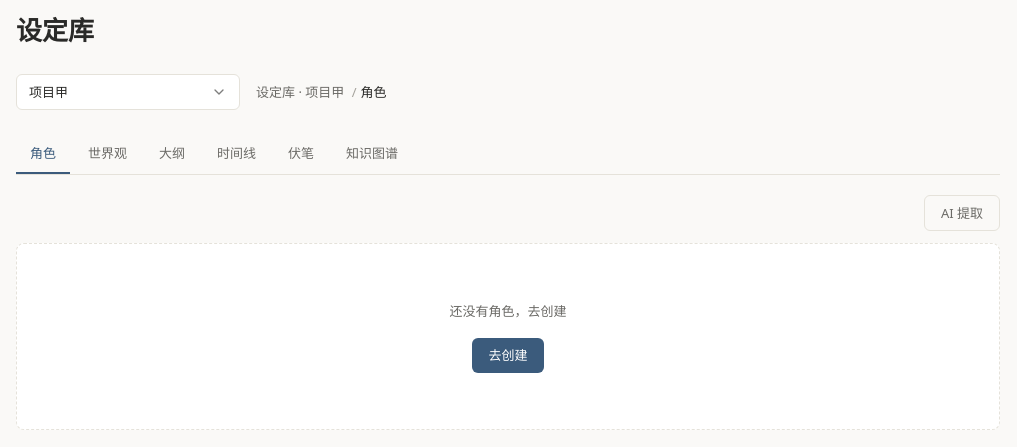
Scenario: 设定库页 — 世界观默认视图重设计（#568） › 信息层级：树行渲染描述预览（content 单行）与子条目数徽标
What coordinates should you click on to do the following:
click the tab "世界观"
I would click on:
 (108, 154)
Its box is [74,134,141,174].
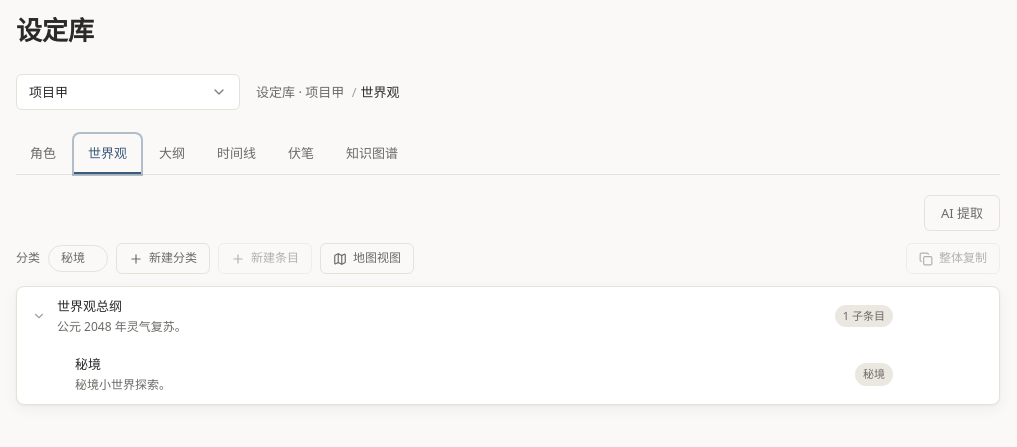
Now the element with test id "library-list" is shown, box [16,286,1000,405]
Now the text with test id "world-node-desc-w1" shows "公元 2048 年灵气复苏", box [57,318,187,335]
Now the text "1 子条目" is shown, box [835,305,893,327]
